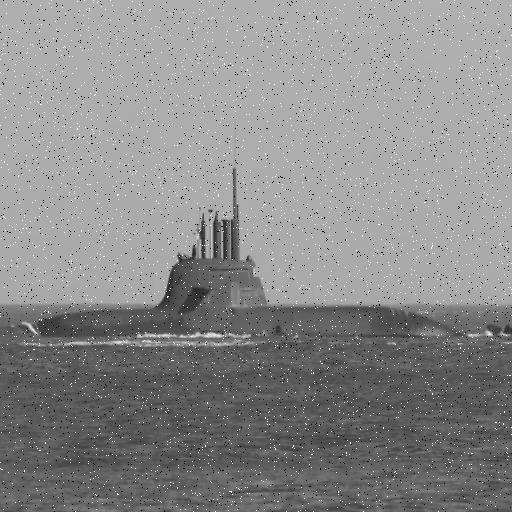submarine: (8, 121, 512, 339)
